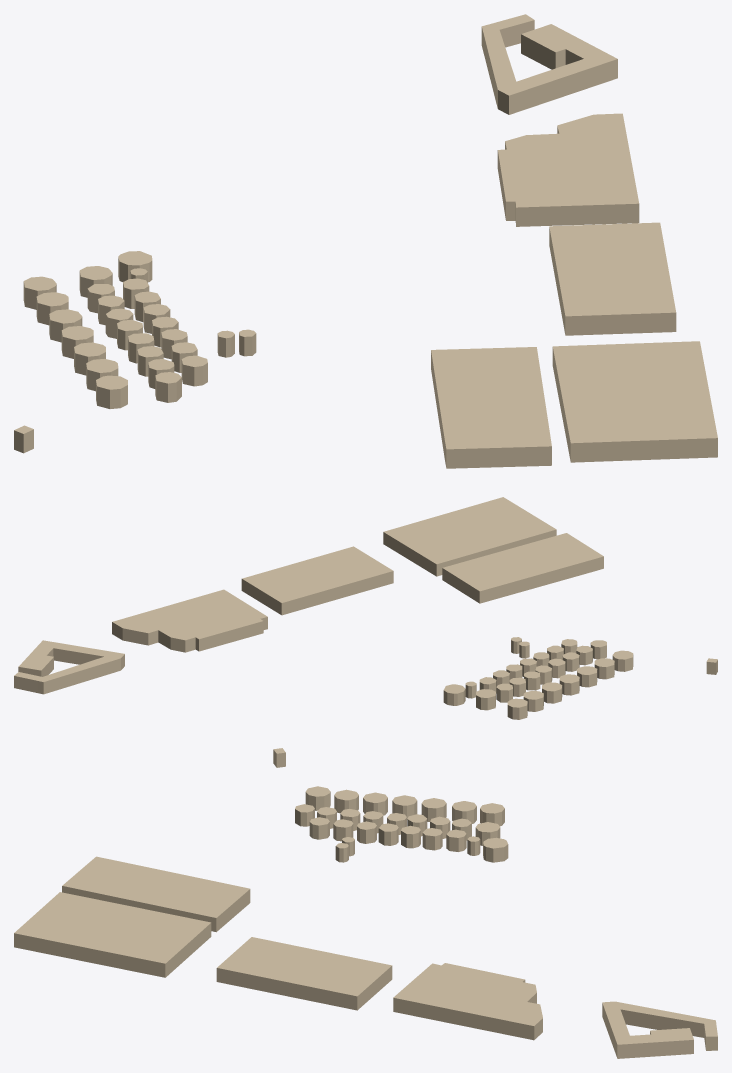
File: -16_-7-estimated-coarse.glb
3 views of the same model, one above another, from view 1: azimuth 30°, elevation 25°; view 2: azimuth 150°, elevation 25°; view 3: azimuth 270°, elevation 25° (orthographic). The views are drawn at different scales.
Bounding box in the file's own units: 540 × 12 × 541.
